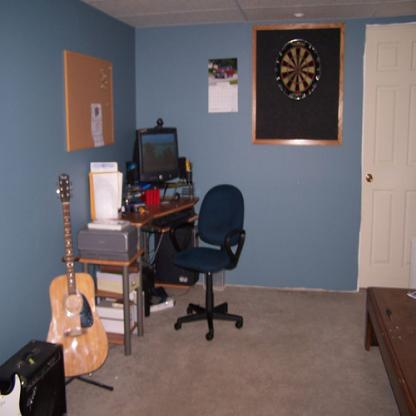car: (212, 61, 236, 79)
chair: (172, 182, 246, 336)
tvmonitor: (133, 129, 180, 185)
